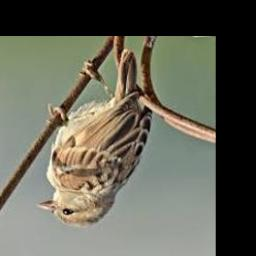Sparrow: (36, 48, 152, 227)
